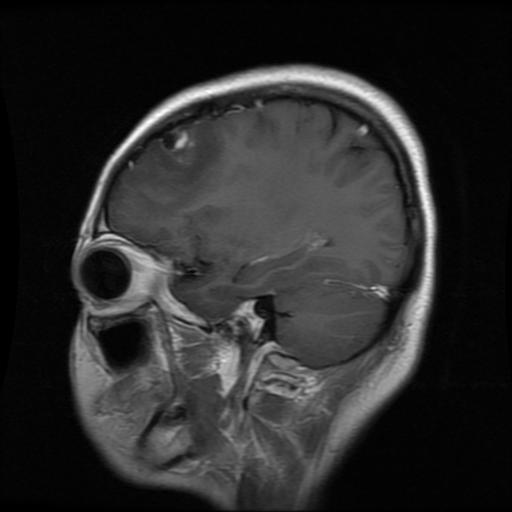Gliomia_tumour: (145, 120, 219, 187)
